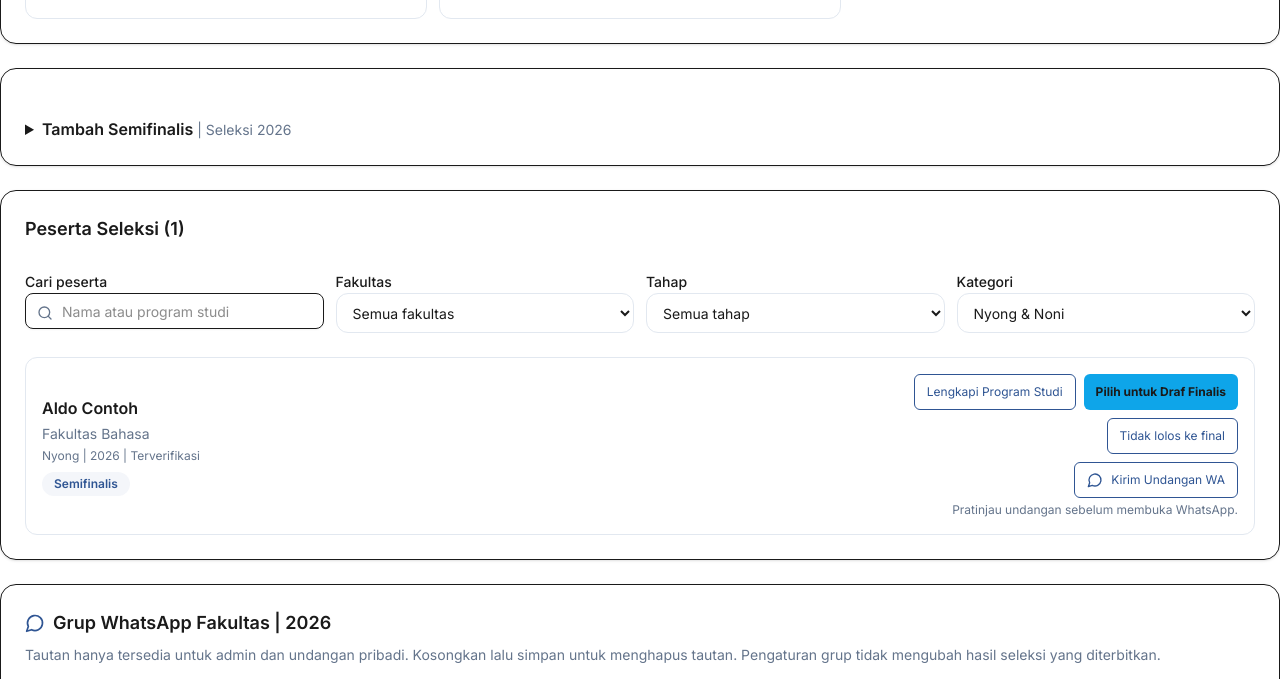
Test case: Selection admin › loads the faculty catalog on opening and completes a semifinalist only after save and reload
(page scrolled)
Click the button "Lengkapi Program Studi". click: click(995, 392)
box: [914,374,1076,410]
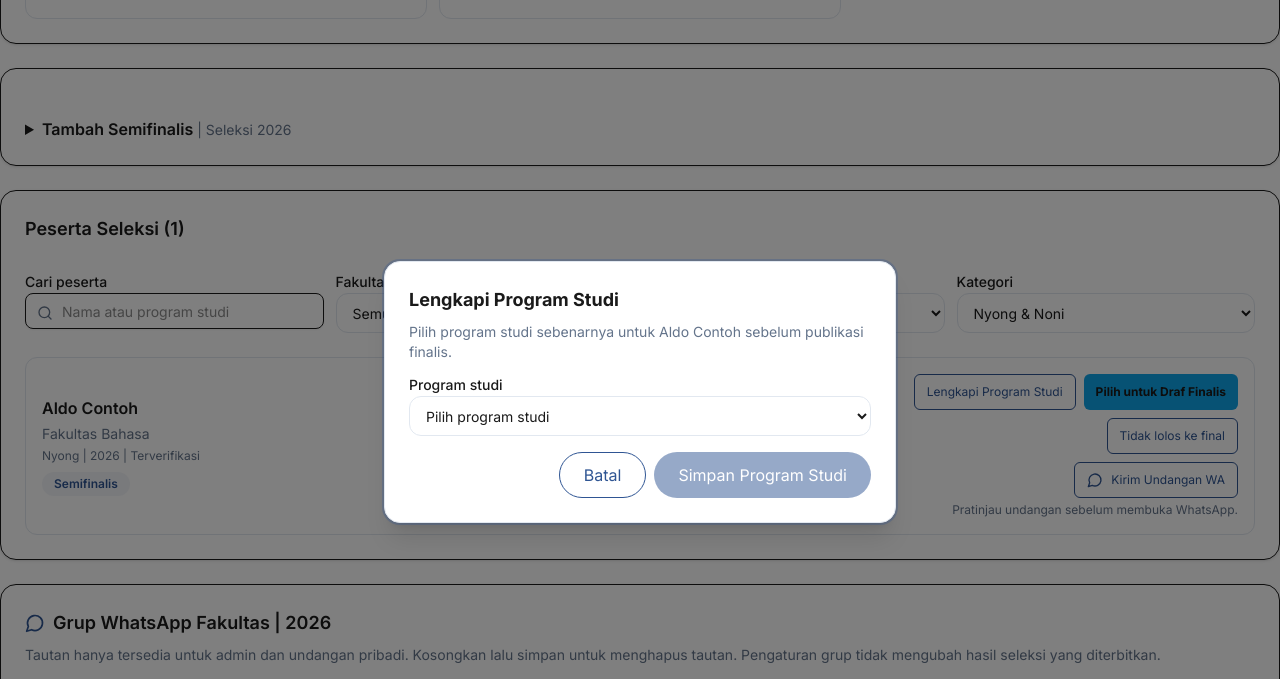
Now the button "Simpan Program Studi" is disabled, box [654,452,871,498]
Select "Pendidikan Bahasa" in the dropdown labelled "Program studi". click: (640, 416)
box: [409,396,871,436]
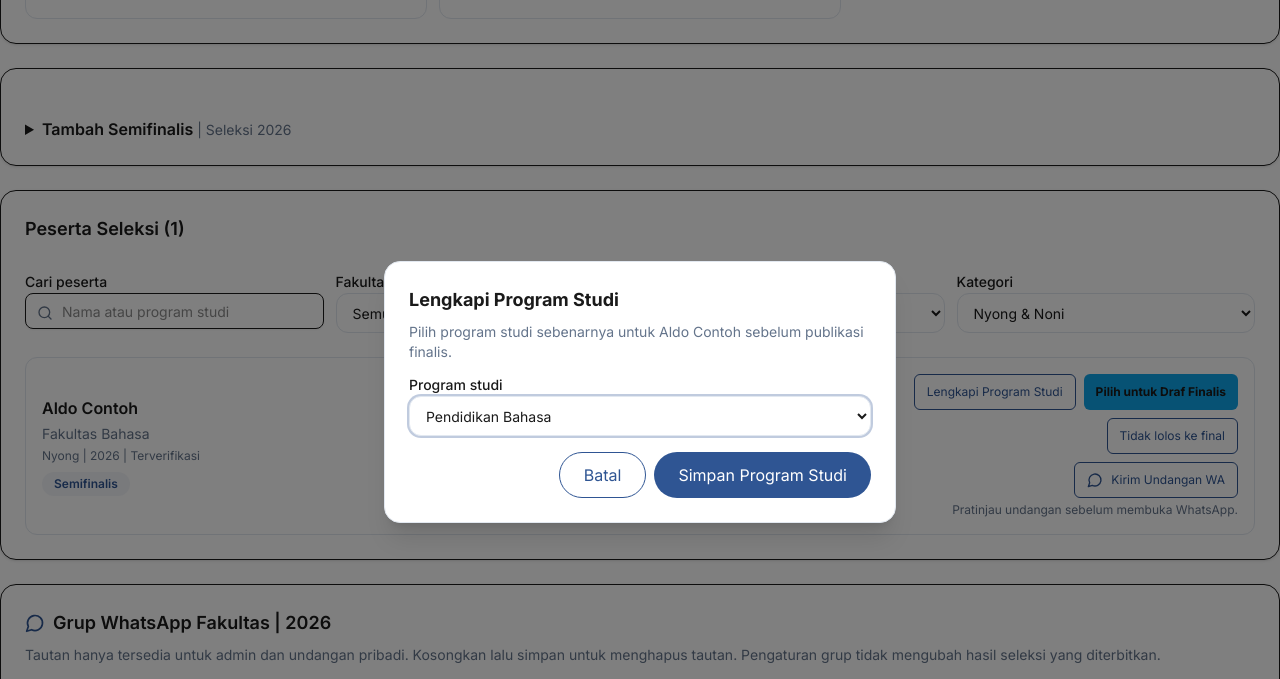
Click the button "Simpan Program Studi". click: click(763, 475)
box: [654,452,871,498]
(page scrolled)
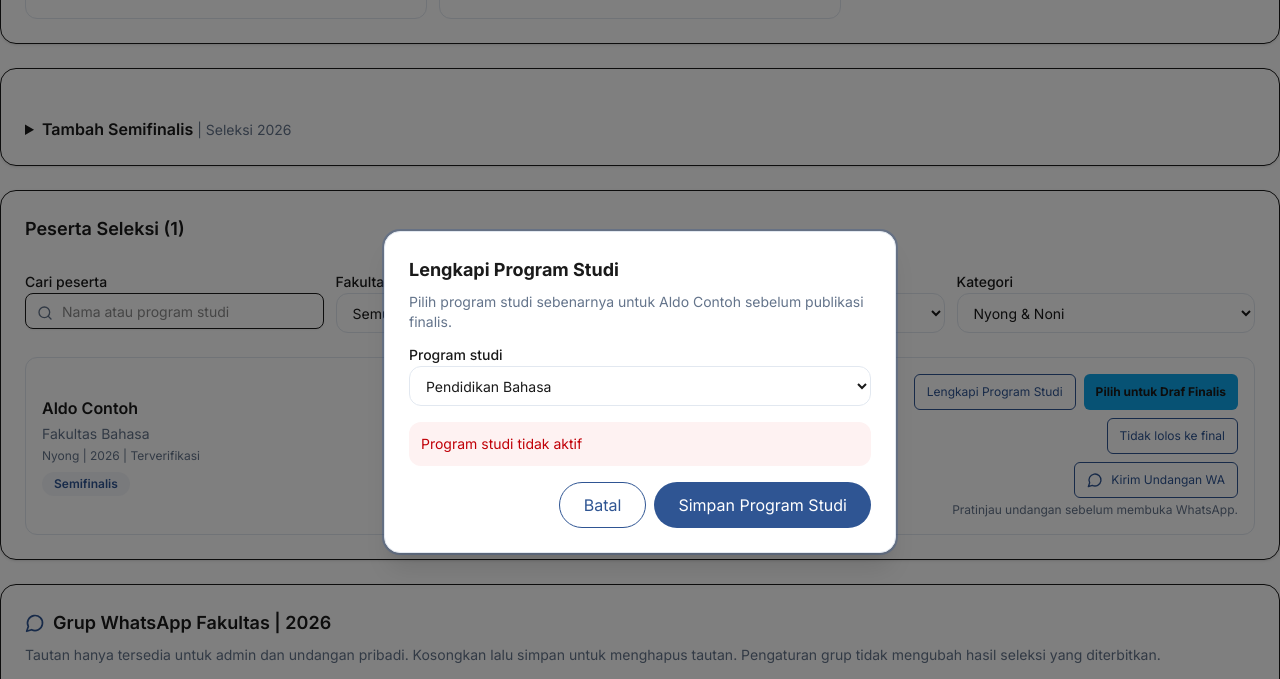
Now the message reads "Program studi tidak aktif", box [421,435,582,452]
Click the button "Simpan Program Studi". click: click(763, 505)
box: [654,482,871,528]
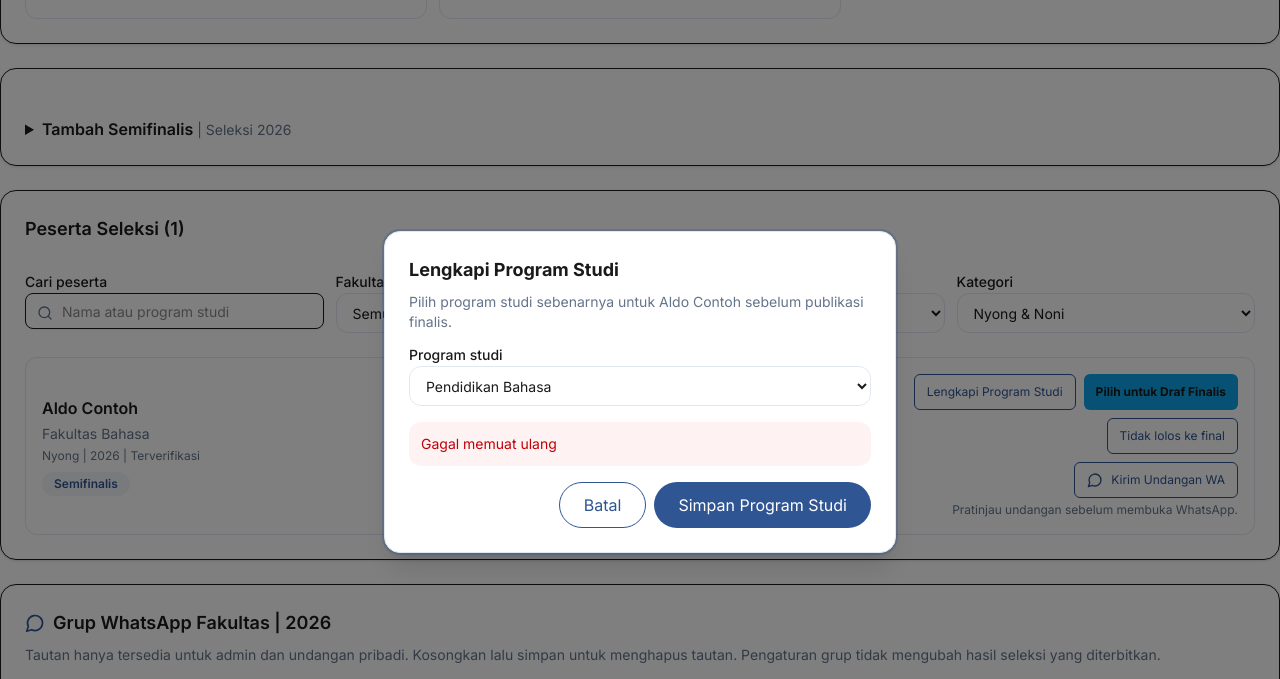
Now the message reads "Gagal memuat ulang", box [421,435,557,452]
Click the button "Simpan Program Studi". click: click(763, 505)
box: [654,482,871,528]
(page scrolled)
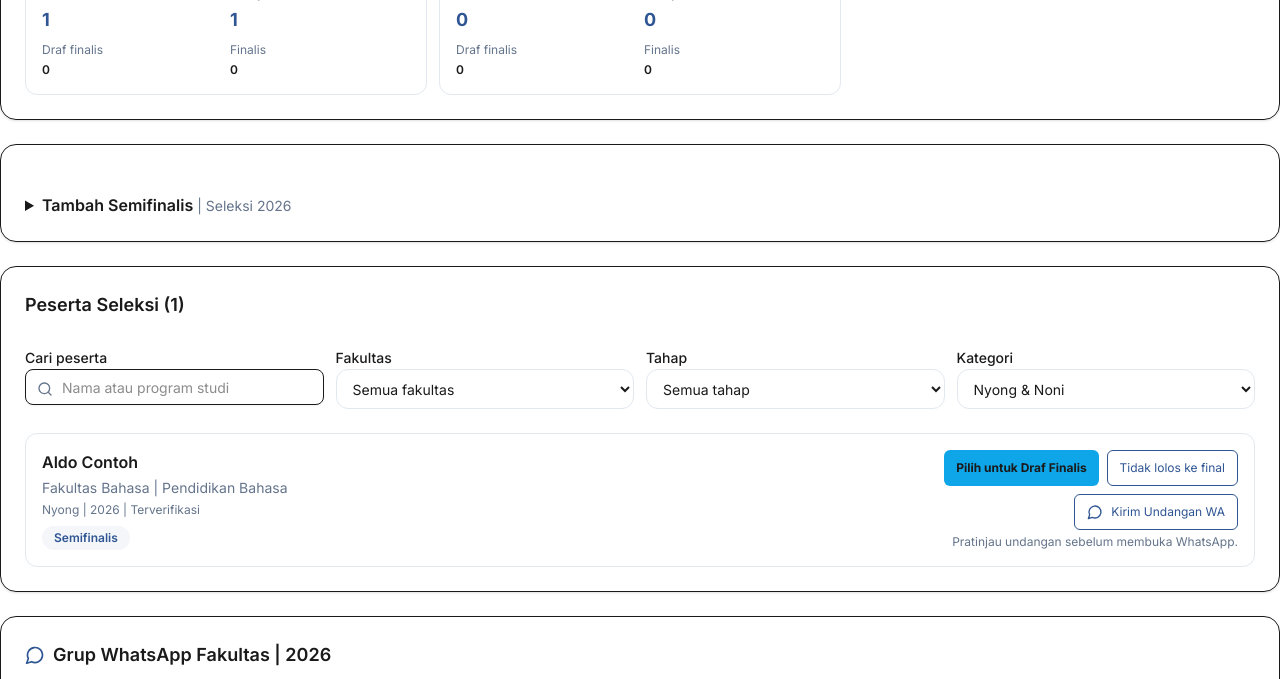
Now the dialog is gone
Now the button "Lengkapi Program Studi" is gone
